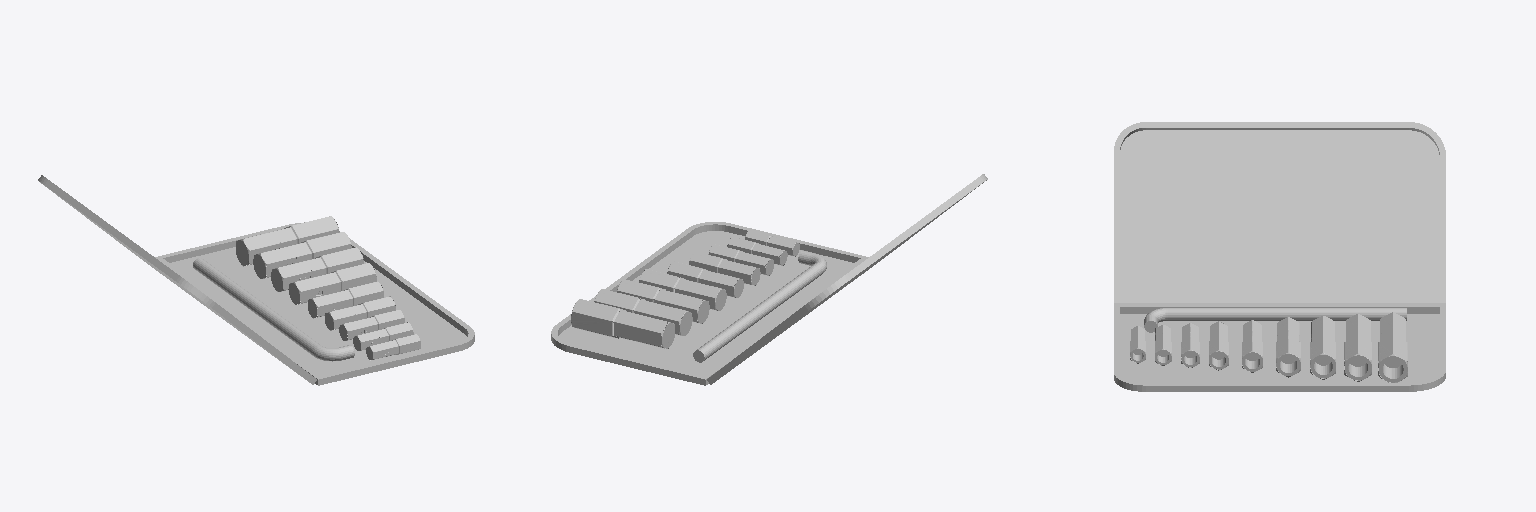
Rendered from Set.obj.
3 views of the same model, side by side, from view 1: azimuth 30°, elevation 25°; view 2: azimuth 150°, elevation 25°; view 3: azimuth 270°, elevation 25° (orthographic).
Visible parts, largest first — view 1: shock_set; view 2: shock_set; view 3: shock_set.
Boxes of the visible parts, box(x1,y1,x2,y2) form: shock_set: box(38, 175, 474, 385); shock_set: box(551, 174, 987, 385); shock_set: box(1114, 122, 1445, 391).
Size of the model in its own units: 0.7752 by 0.3229 by 0.7573.